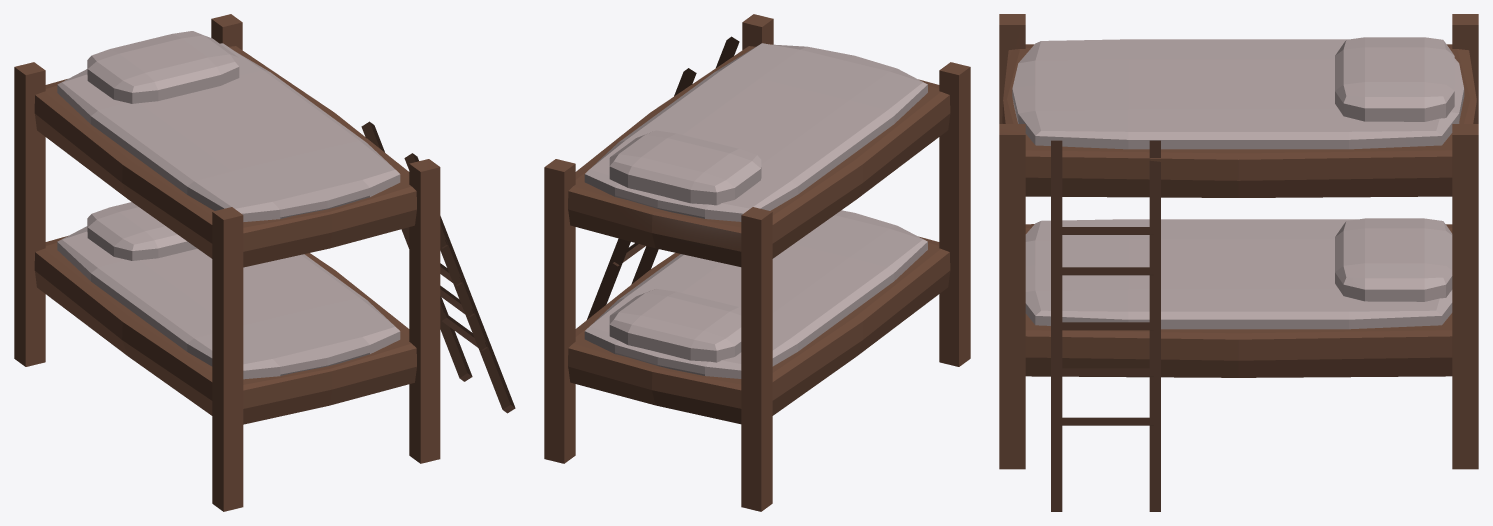
File: Beliche.fbx
The picture shows the model from 3 angles, left to right: view 1: azimuth 30°, elevation 25°; view 2: azimuth 150°, elevation 25°; view 3: azimuth 270°, elevation 25°; orthographic projection. The views are drawn at different scales.
Parts seen in each view (by area): view 1: Beliche; view 2: Beliche; view 3: Beliche.
Part boxes in pixels (box(x1,y1,x2,y2)): Beliche: box(14, 14, 515, 511); Beliche: box(544, 14, 970, 511); Beliche: box(999, 14, 1478, 511).
Bounding box in the file's own units: 217 × 200 × 251.
Materials: 1 (1 with a texture image).
